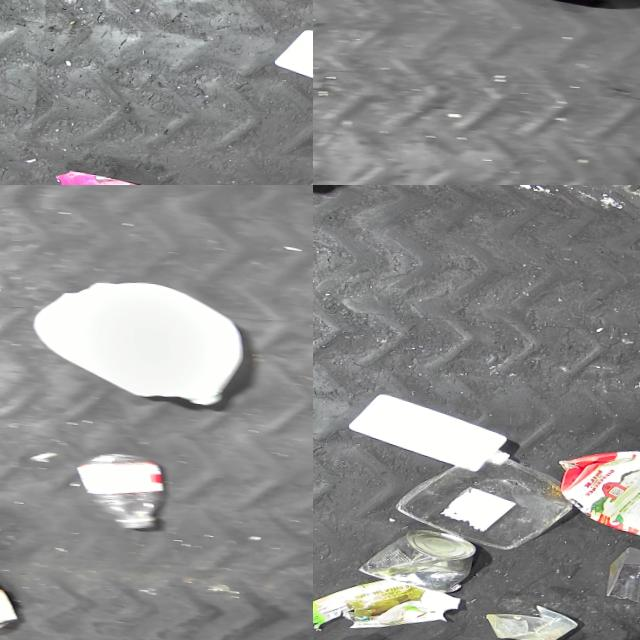can: (359, 522, 478, 589)
milk_jug: (30, 272, 246, 404), (349, 387, 517, 470), (275, 22, 313, 106)
non_white_jug: (550, 440, 640, 538)
plastic_bottle: (74, 447, 170, 527)
